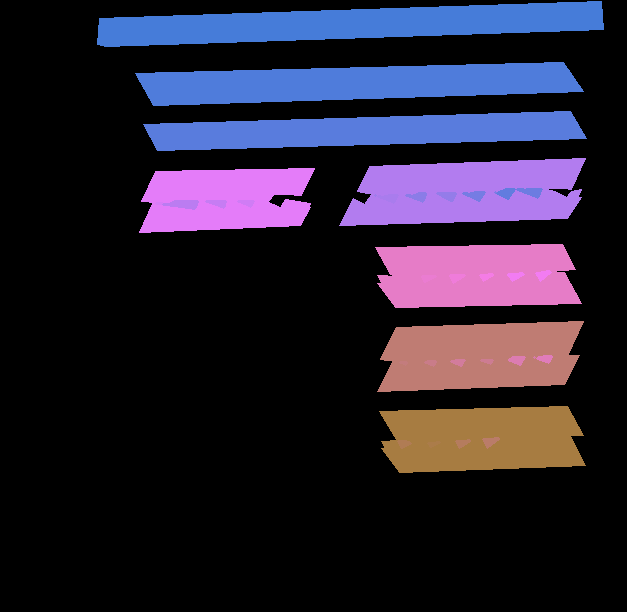parkingspot: (97, 1, 603, 46), (135, 62, 583, 105), (143, 111, 586, 150), (339, 188, 581, 225), (357, 158, 585, 196), (380, 321, 583, 362), (377, 269, 581, 307), (375, 244, 575, 282), (379, 406, 583, 443), (381, 435, 585, 472), (377, 354, 579, 391), (141, 168, 314, 203), (139, 197, 310, 232)
